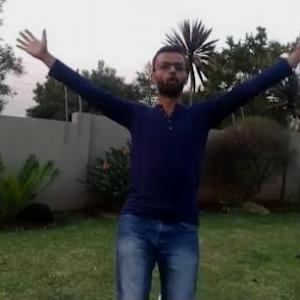takeoff: (8, 31, 299, 299)
